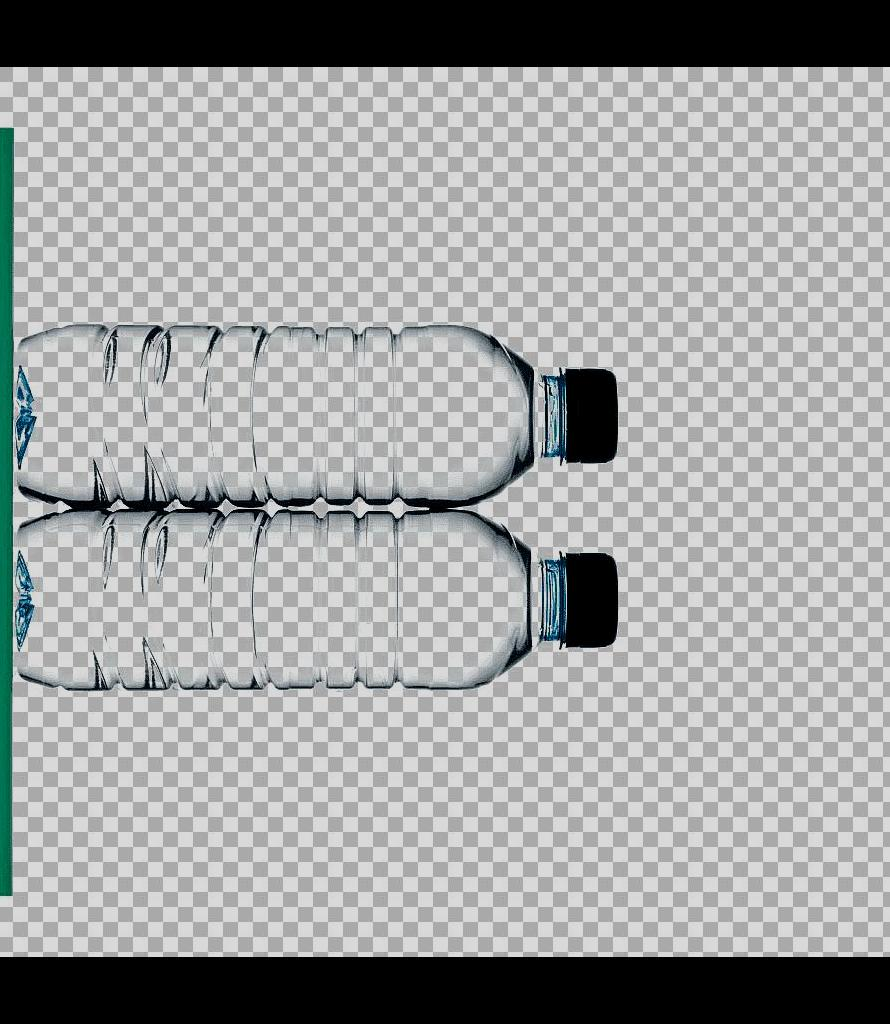bottle: (21, 300, 662, 504), (7, 508, 634, 694)
